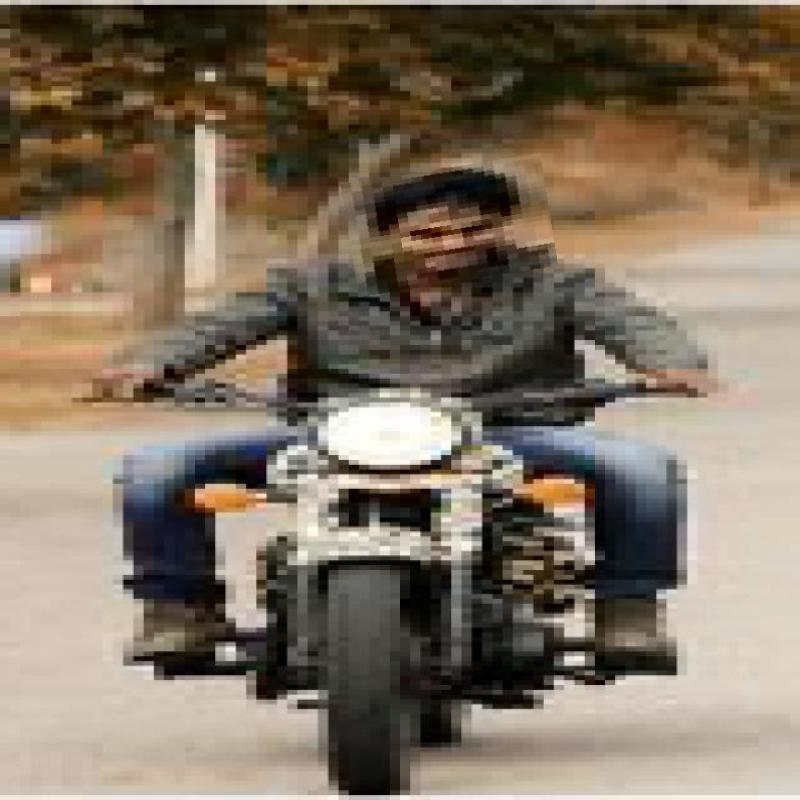nohelmet: (345, 161, 555, 290)
